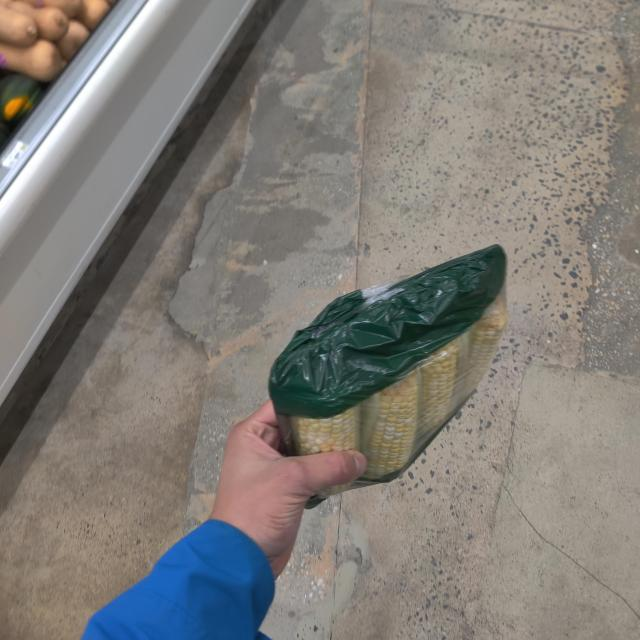Corn: (242, 233, 566, 495)
